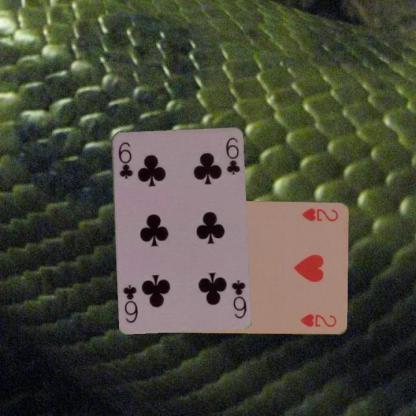2h: (299, 205, 340, 223)
6c: (229, 276, 248, 320), (116, 138, 134, 180)
